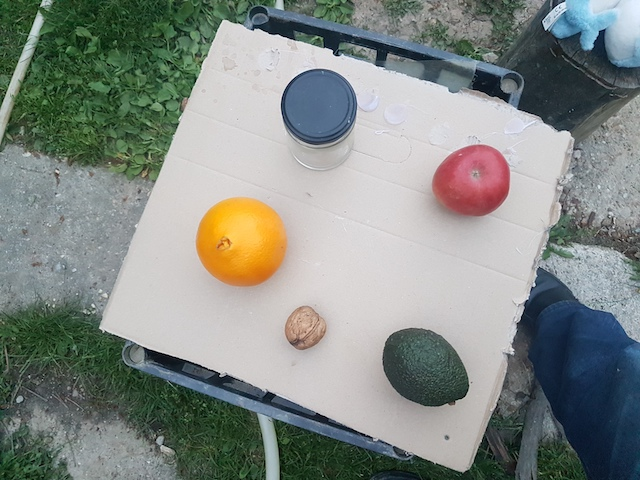apple: (431, 143, 513, 217)
avocado: (382, 325, 472, 410)
nut: (284, 304, 326, 350)
orange: (196, 197, 288, 287)
recipient: (280, 67, 357, 143)
